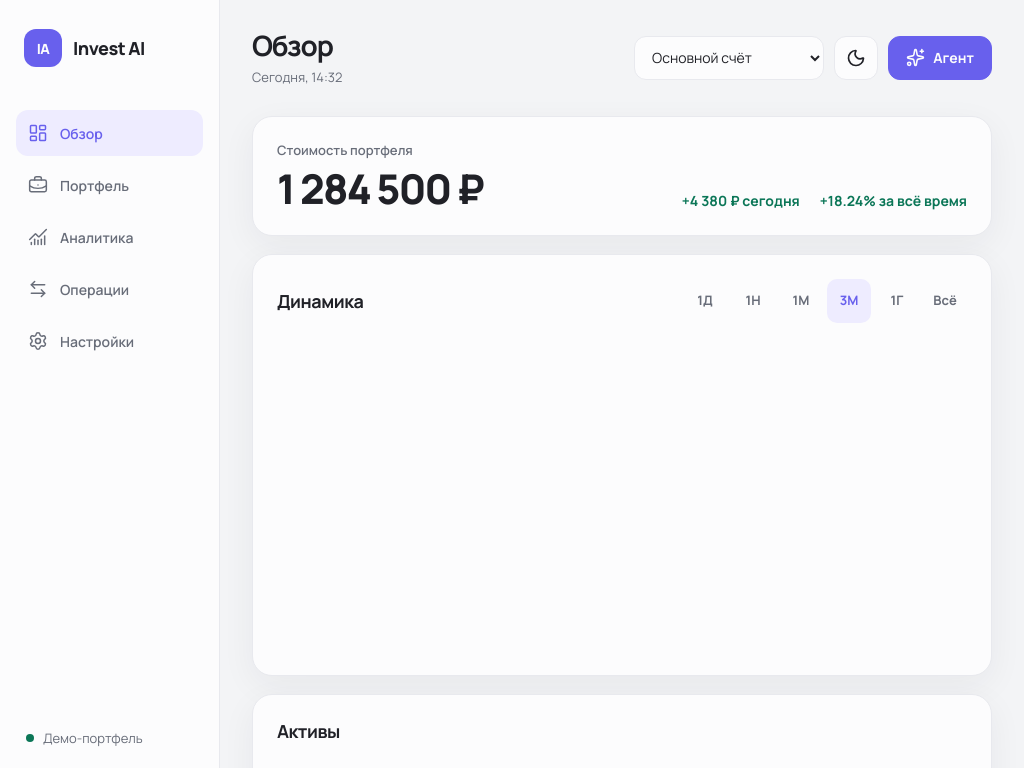
Test: StandApp › switches and persists the theme
What coordinates should you click on to do the following:
click the button named "Тёмная тема"
I would click on:
 (856, 58)
Its box is [834,36,878,80].
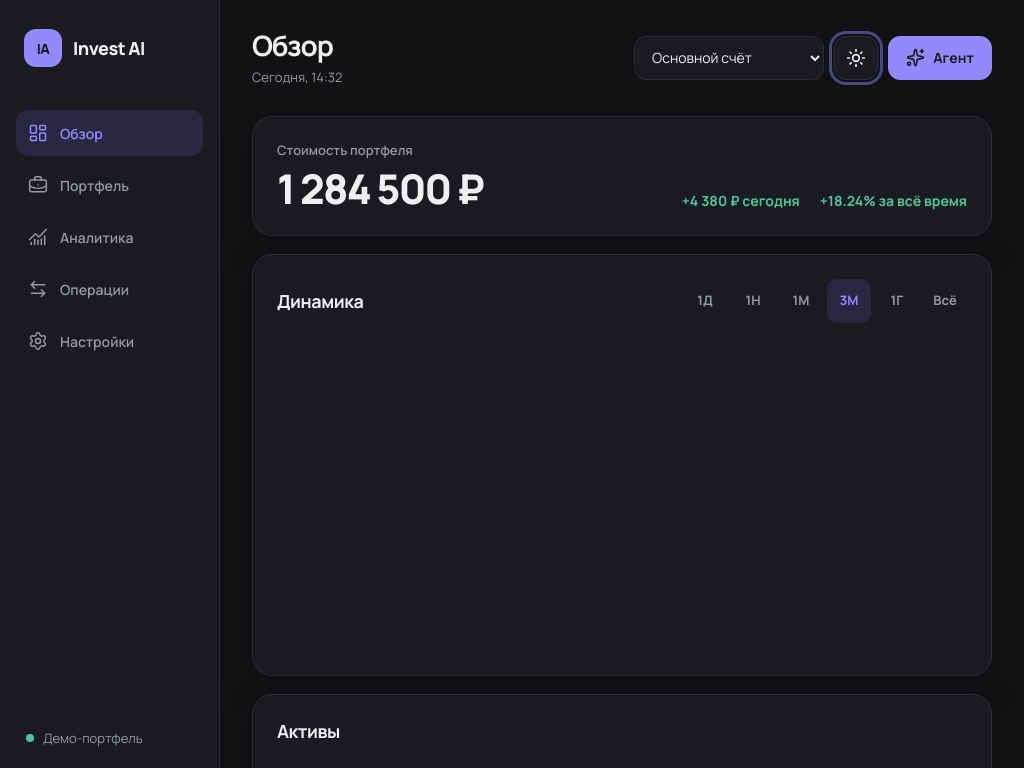
Expected: the button named "Светлая тема" is shown, [834,36,878,80]
